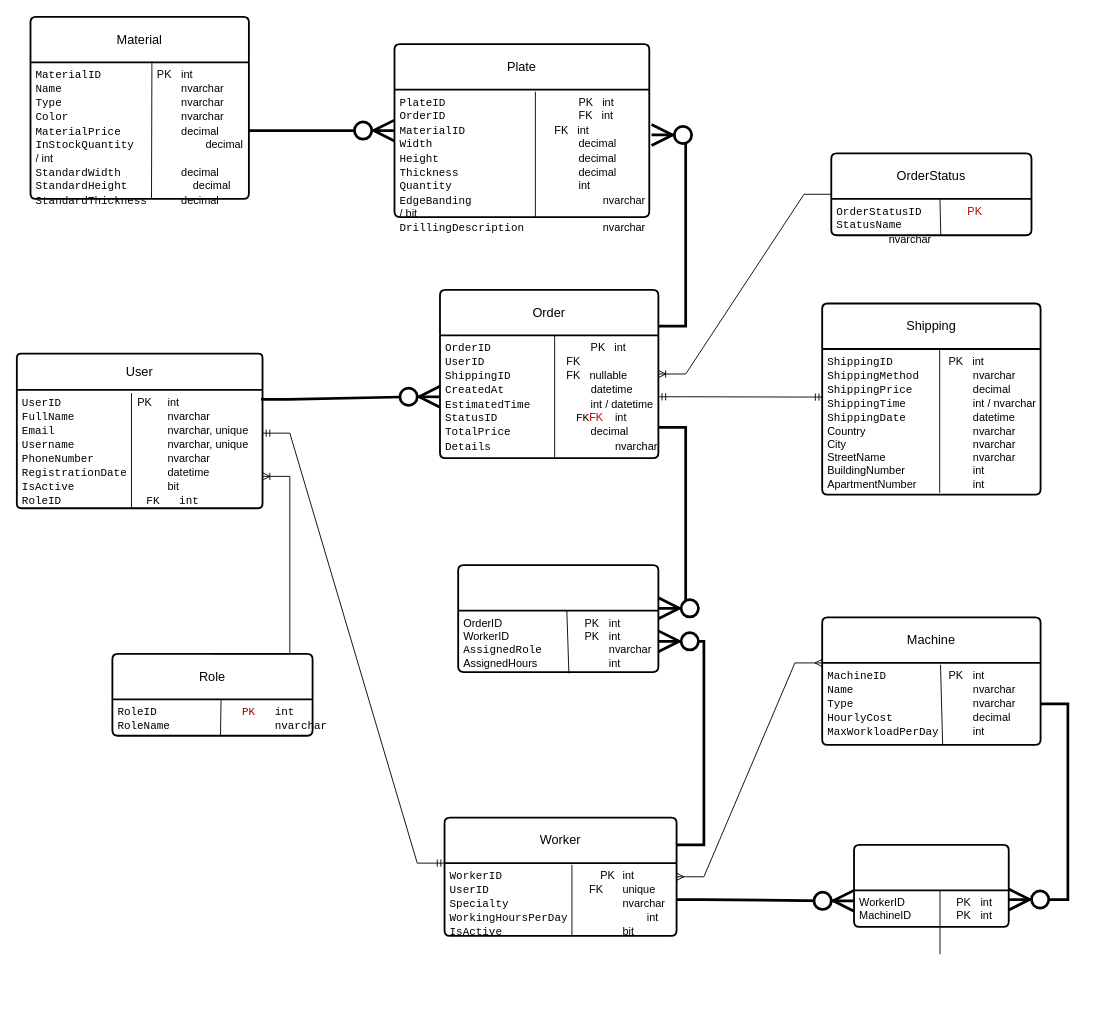
This 1104x1014 diagram has some shape labels left out. The shapes that lost their labels are listed below. From the top down, each one's box as (x1, y1, x2, y2) in pixels, then its label:
(457, 564, 659, 672): OrderWorker
(853, 844, 1009, 927): WorkerMachine
